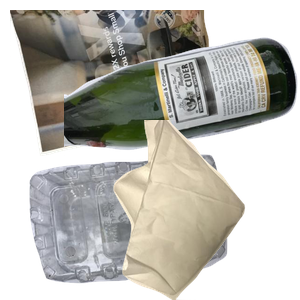glass: (64, 35, 300, 181)
paper: (10, 10, 233, 158)
plastic: (27, 152, 247, 300)
trash: (111, 120, 300, 300)
